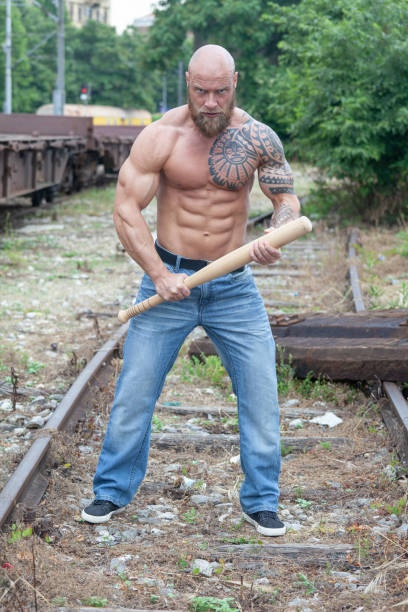bita: (118, 216, 312, 324)
